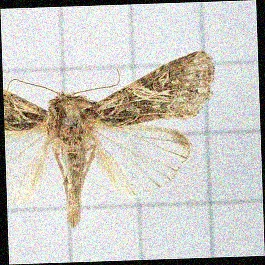Spodoptera litura: (5, 53, 218, 228)
